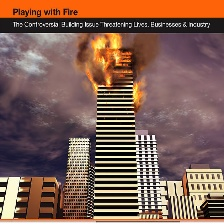fire: (90, 35, 144, 110)
smoke: (134, 37, 162, 69), (69, 32, 88, 64)
